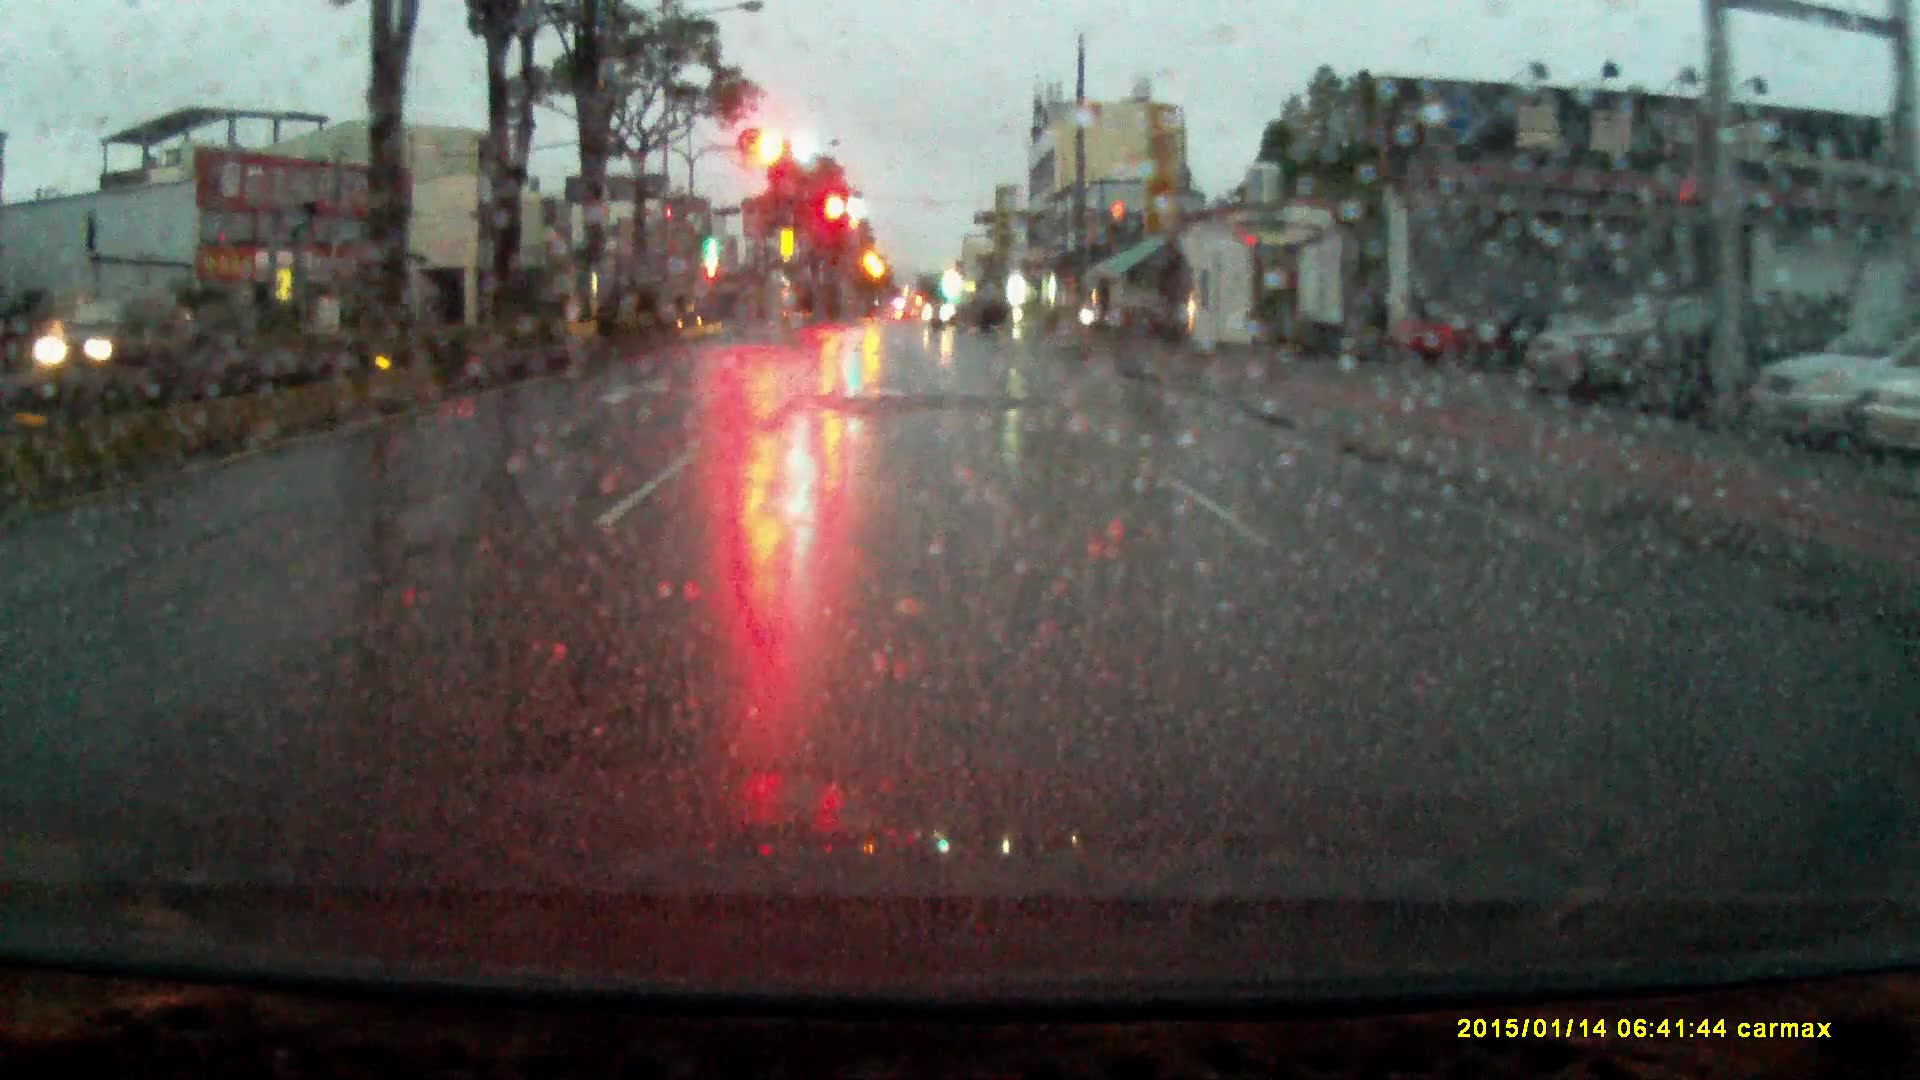vehicle: (1578, 286, 1841, 419), (1523, 285, 1778, 402), (923, 287, 1011, 335)
